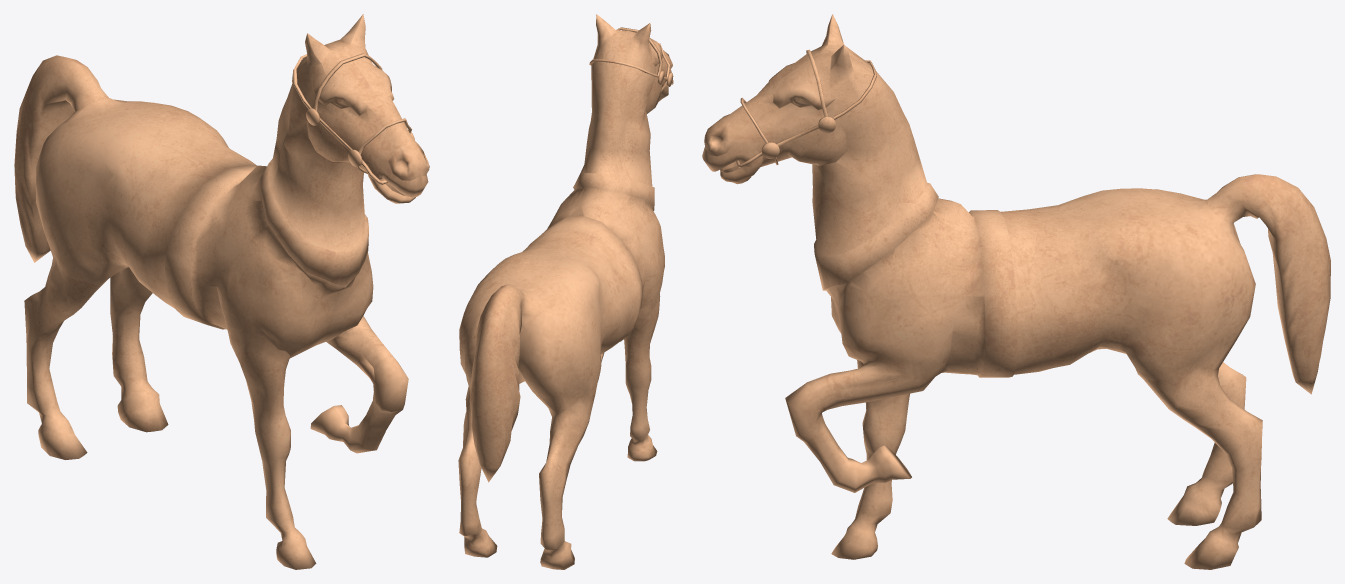
The model's file is RC_Horse_07.gltf.
3 views of the same model, side by side, from view 1: azimuth 30°, elevation 25°; view 2: azimuth 150°, elevation 25°; view 3: azimuth 270°, elevation 25° (orthographic). The views are drawn at different scales.
Visible parts, largest first — view 1: RC_Horse_07(Clone); view 2: RC_Horse_07(Clone); view 3: RC_Horse_07(Clone).
Boxes of the visible parts, left/top/right/bottom form: RC_Horse_07(Clone): left=14, top=14, right=429, bottom=569; RC_Horse_07(Clone): left=458, top=14, right=673, bottom=569; RC_Horse_07(Clone): left=702, top=14, right=1330, bottom=569.
Size of the model in its own units: 0.6509 by 1.86 by 1.97.
Materials: 1 (1 with a texture image).
